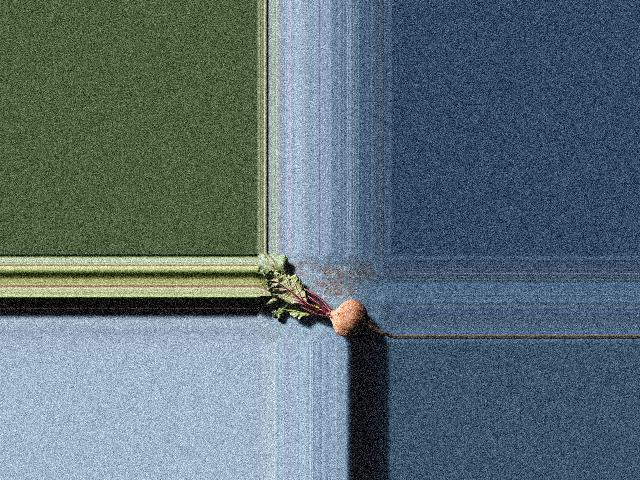beet: (256, 253, 392, 338)
